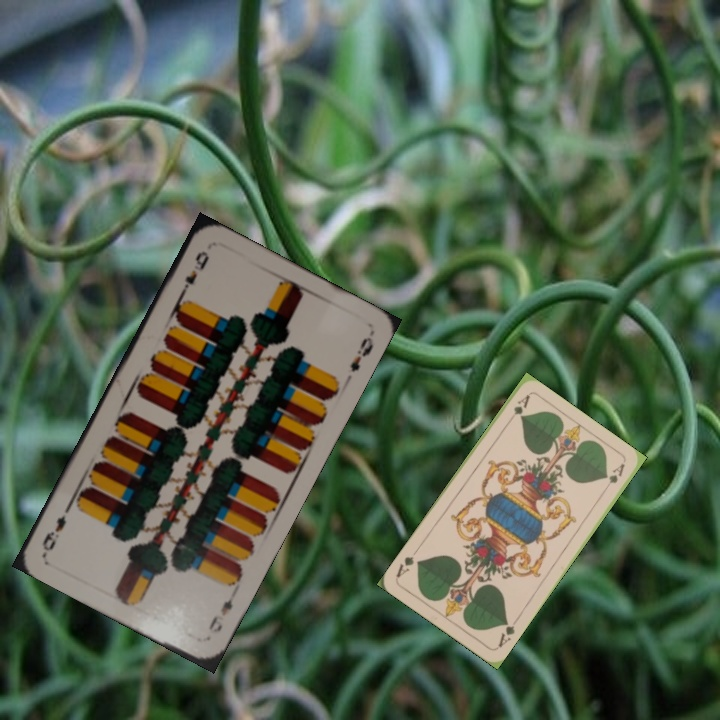E9: (176, 247, 212, 299), (204, 587, 239, 636)
GA: (503, 391, 532, 427), (494, 614, 520, 650)
